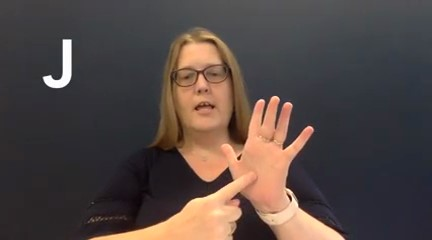J: (174, 93, 320, 234)
